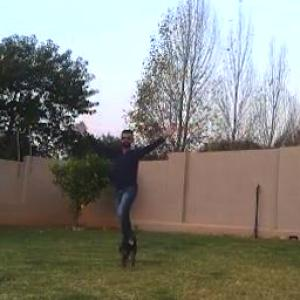takeoff: (97, 120, 202, 250)
